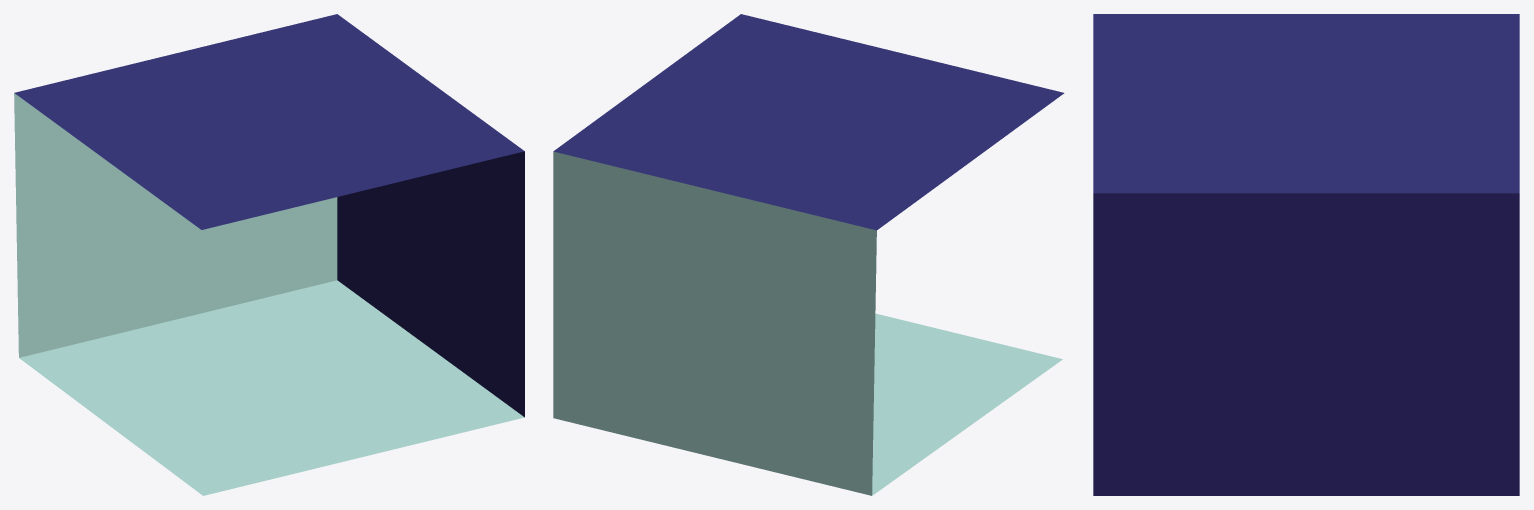
The picture shows the model from 3 angles, left to right: view 1: azimuth 30°, elevation 25°; view 2: azimuth 150°, elevation 25°; view 3: azimuth 270°, elevation 25°; orthographic projection. The views are drawn at different scales.
Visible parts, largest first — view 1: ceiling, floor, backWall, rightWall; view 2: backWall, ceiling, floor; view 3: rightWall, ceiling.
Part boxes in pixels (x1,y1,x2,y2): ceiling: (14, 14, 524, 229); floor: (19, 280, 524, 495); backWall: (14, 93, 337, 357); rightWall: (337, 151, 524, 417); backWall: (553, 151, 876, 495); ceiling: (553, 14, 1064, 230); floor: (872, 313, 1062, 495); rightWall: (1093, 193, 1519, 495); ceiling: (1093, 14, 1519, 193).
Bounding box in the file's own units: 2.02 × 1.59 × 2.03.
